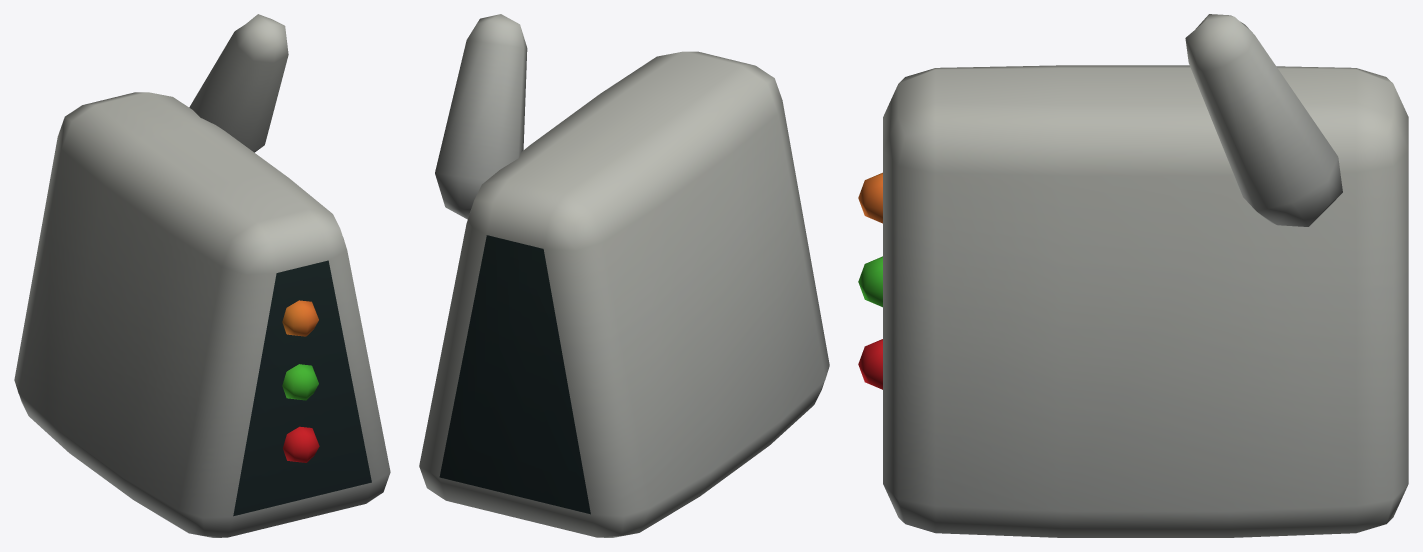
File: router_LOD_setup.fbx
3 renders of one model, left to right at view 1: azimuth 30°, elevation 25°; view 2: azimuth 150°, elevation 25°; view 3: azimuth 270°, elevation 25°, orthographic. The views are drawn at different scales.
Visible parts, largest first — view 1: router_LOD0; view 2: router_LOD0; view 3: router_LOD0.
Boxes of the visible parts, x1,y1,x2,y2 form: router_LOD0: (14,14,390,537); router_LOD0: (419,14,829,537); router_LOD0: (858,14,1408,537).
Size of what is drawn, in the model's own units: 32.49 by 55.34 by 52.35.
